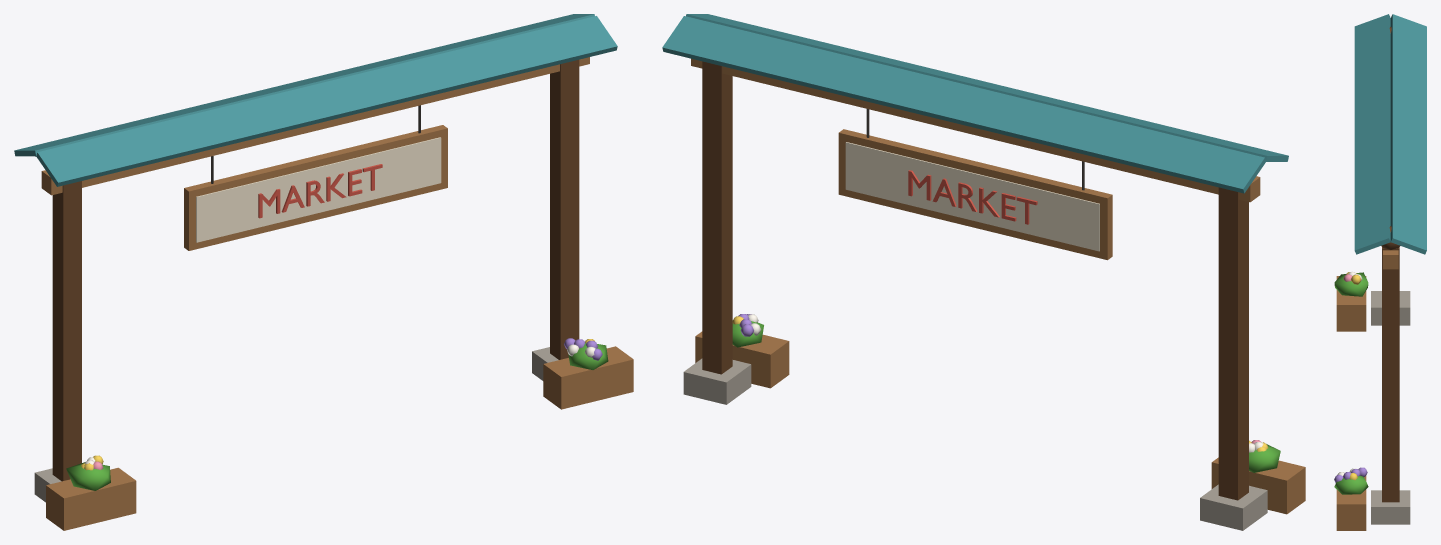
Rendered from market_sign.glb.
3 renders of one model, left to right at view 1: azimuth 30°, elevation 25°; view 2: azimuth 150°, elevation 25°; view 3: azimuth 270°, elevation 25°, orthographic. The views are drawn at different scales.
Parts seen in each view (by area): view 1: Market_Sign; view 2: Market_Sign; view 3: Market_Sign.
Boxes of the visible parts, x1,y1,x2,y2 form: Market_Sign: (14,14,633,530); Market_Sign: (662,14,1305,530); Market_Sign: (1334,14,1426,530).
Bounding box in the file's own units: 5.5 × 3.32 × 0.9461.
